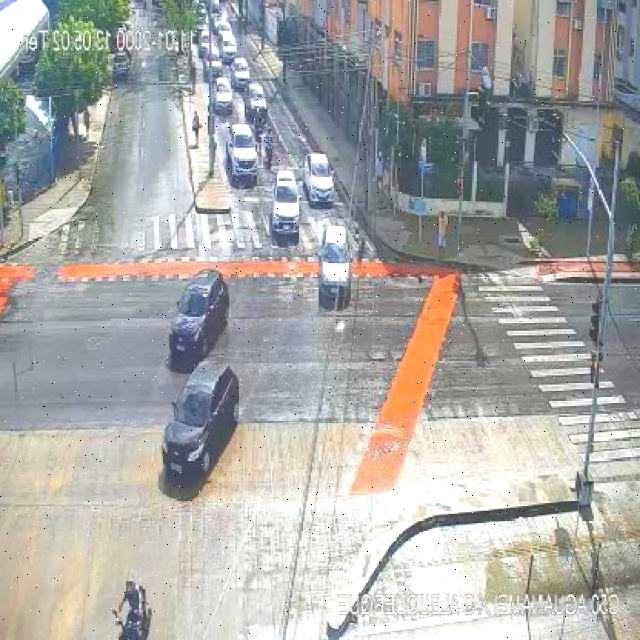Car: (158, 360, 243, 482), (164, 270, 230, 362), (317, 224, 356, 303), (270, 170, 301, 240), (227, 122, 260, 182), (303, 152, 335, 206), (214, 78, 234, 114)
